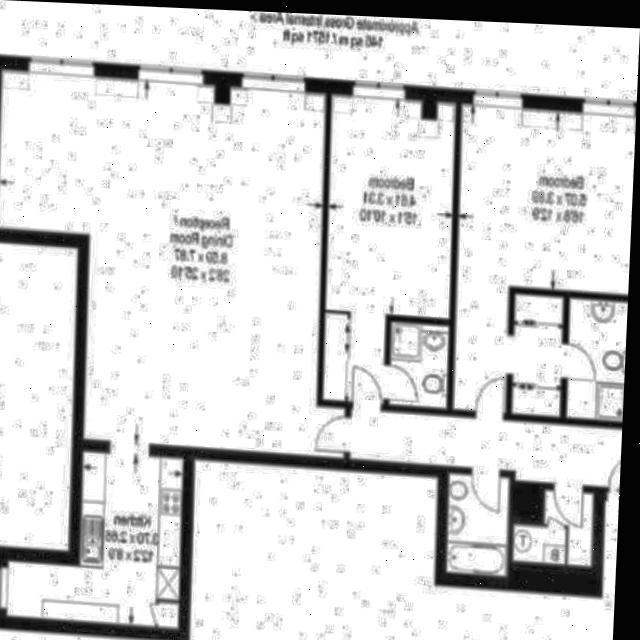room: (0, 69, 352, 456), (320, 91, 457, 403), (454, 100, 636, 292), (0, 445, 189, 629), (347, 407, 623, 474), (451, 285, 565, 414), (563, 294, 628, 419), (510, 485, 595, 564), (444, 470, 508, 574), (388, 318, 448, 407)
